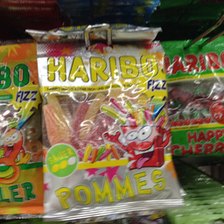candy: (35, 36, 180, 215), (155, 33, 224, 168), (1, 36, 47, 214)
